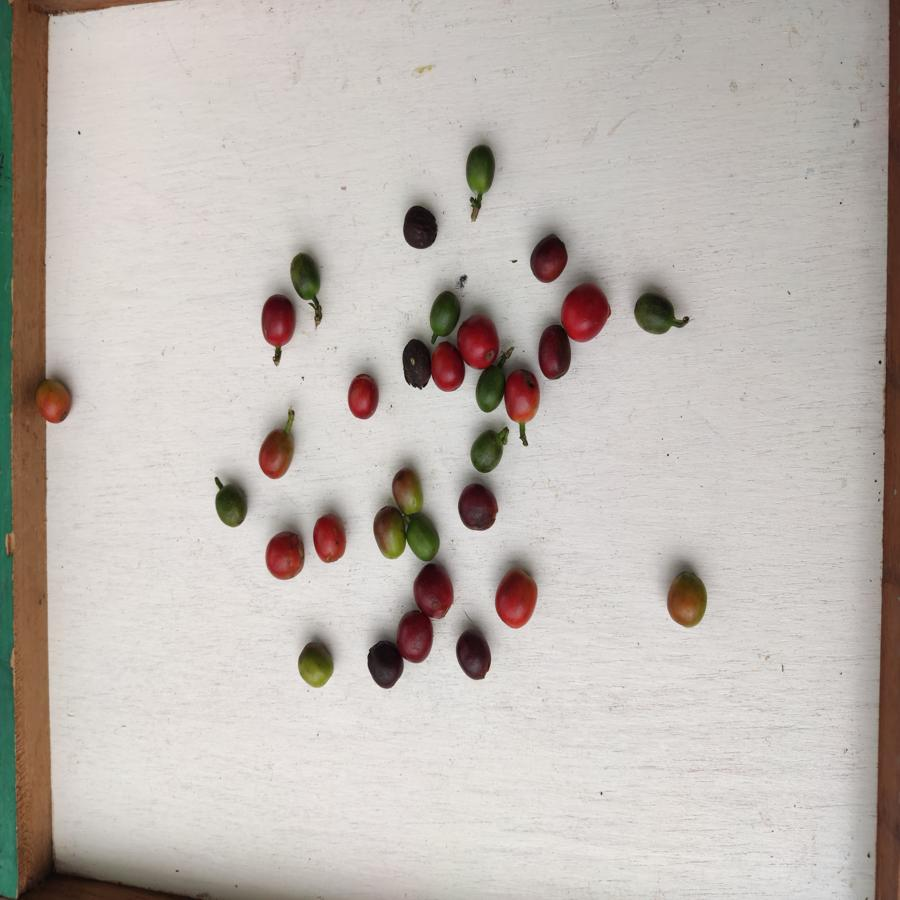Inmaduro: (631, 291, 678, 339), (461, 145, 499, 195), (289, 252, 325, 302), (214, 483, 251, 528), (470, 431, 506, 475), (406, 518, 442, 562), (429, 290, 461, 338), (475, 363, 504, 414)
Maduro: (493, 566, 539, 631), (561, 282, 611, 341), (259, 293, 299, 349), (504, 369, 543, 424), (457, 314, 500, 363), (265, 532, 307, 580), (258, 430, 296, 480), (431, 340, 467, 392), (310, 513, 346, 563), (347, 373, 382, 420)
Pinton: (666, 572, 711, 631), (35, 374, 73, 429), (389, 468, 429, 517), (373, 504, 407, 559), (296, 641, 333, 688)
Sobremaduro: (413, 563, 457, 623), (457, 483, 501, 534), (399, 202, 442, 252), (457, 628, 495, 683), (529, 236, 573, 283), (536, 324, 571, 382), (396, 609, 431, 664), (367, 638, 402, 689), (399, 339, 434, 389)
